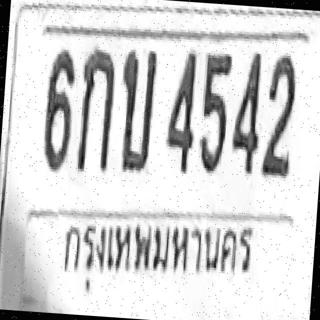A01: (75, 46, 116, 173)
A26: (116, 48, 158, 172)
N02: (260, 52, 298, 178)
N04: (163, 49, 199, 173), (229, 50, 264, 174)
N05: (196, 50, 232, 174)
N06: (41, 47, 77, 171)
P04: (56, 202, 255, 306)
